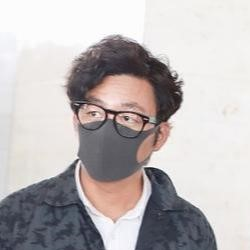mask: (69, 120, 158, 182)
